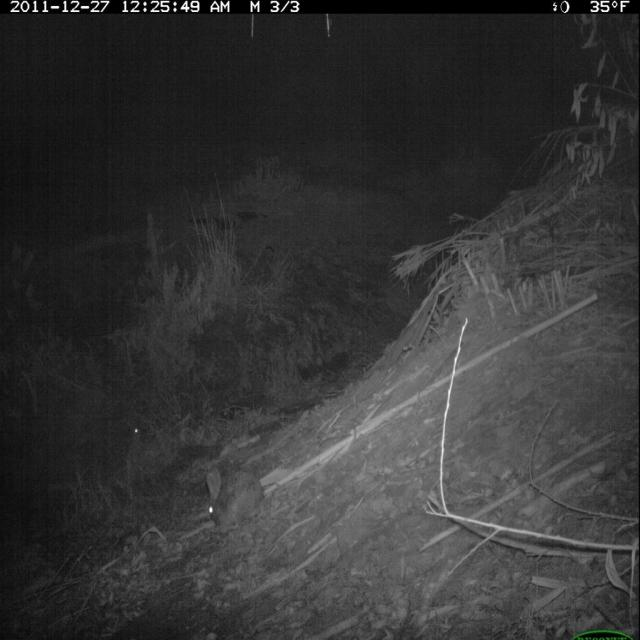rabbit: (201, 464, 270, 539)
